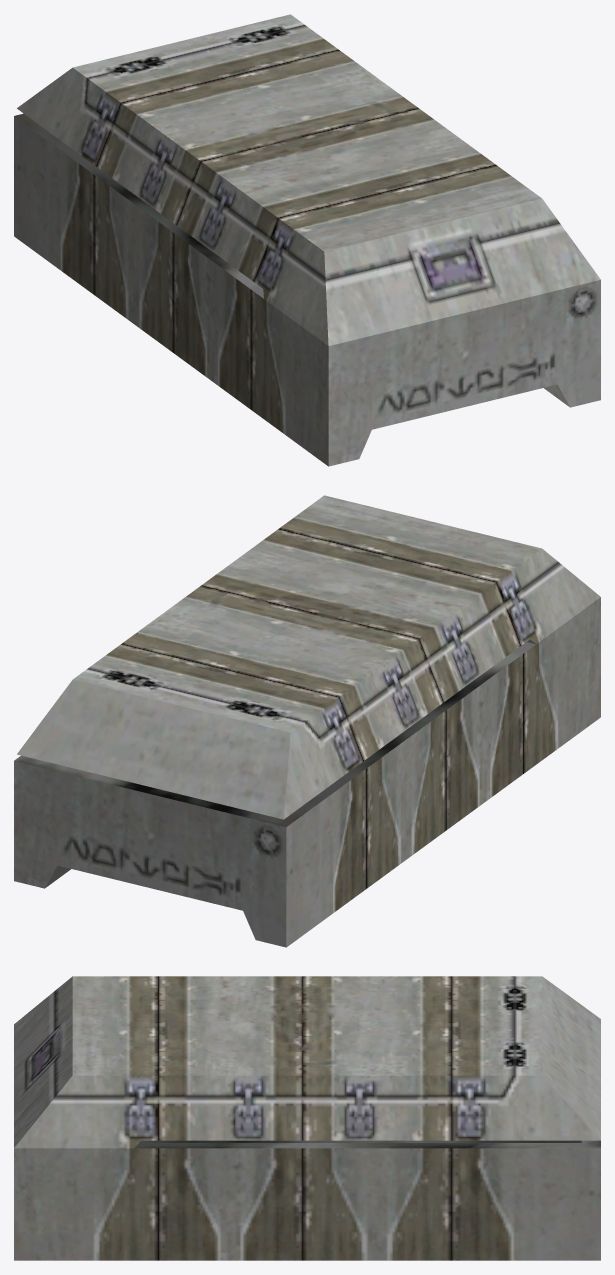
The model's file is con_gen_inorganic_chemicals_sml_l0.fbx.
The picture shows the model from 3 angles, top to bottom: view 1: azimuth 30°, elevation 25°; view 2: azimuth 150°, elevation 25°; view 3: azimuth 270°, elevation 25°; orthographic projection. The views are drawn at different scales.
Parts seen in each view (by area): view 1: mesh_node; view 2: mesh_node; view 3: mesh_node.
Boxes of the visible parts, x1,y1,x2,y2 form: mesh_node: (14,14,600,466); mesh_node: (14,495,600,947); mesh_node: (14,976,600,1260).
Bounding box in the file's own units: 0.2479 × 0.161 × 0.4958.
